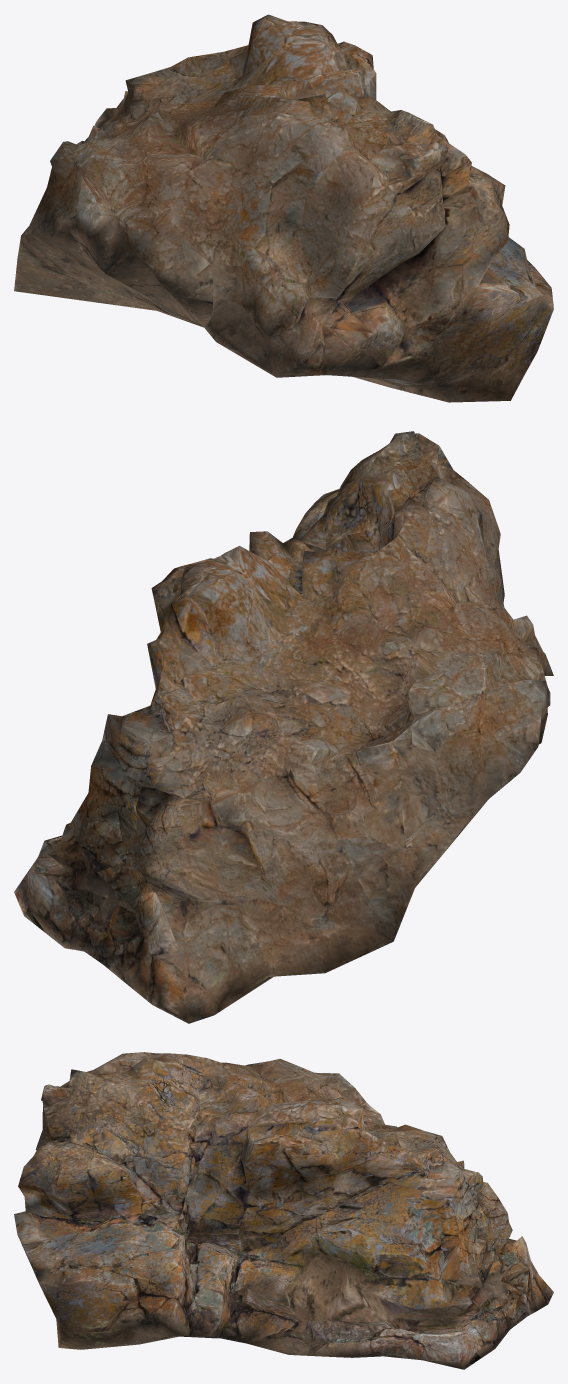
The model's file is rock_reused.glb.
3 views of the same model, one above another, from view 1: azimuth 30°, elevation 25°; view 2: azimuth 150°, elevation 25°; view 3: azimuth 270°, elevation 25° (orthographic). The views are drawn at different scales.
Parts seen in each view (by area): view 1: boulder_01; view 2: boulder_01; view 3: boulder_01.
Part boxes in pixels (left/top/right/bottom): boulder_01: left=14, top=14, right=553, bottom=402; boulder_01: left=14, top=431, right=553, bottom=1023; boulder_01: left=14, top=1052, right=553, bottom=1369.
Size of the model in its own units: 1.27 by 0.9988 by 1.83.
Materials: 1 (1 with a texture image).
